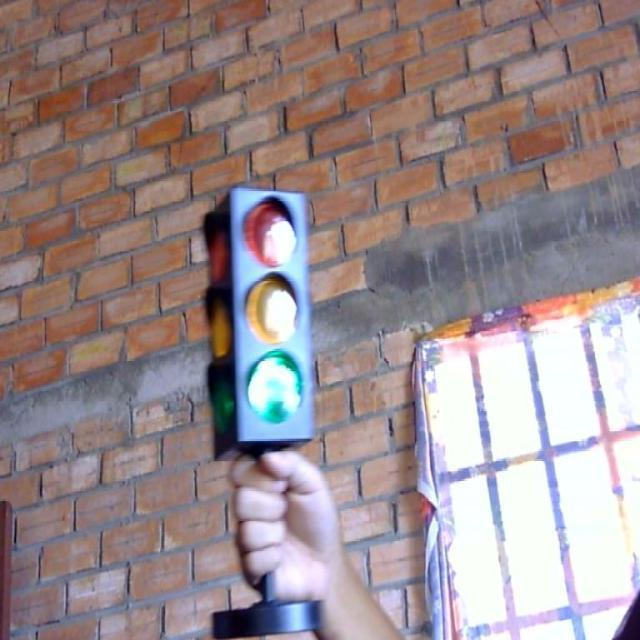green light: (242, 348, 308, 431)
